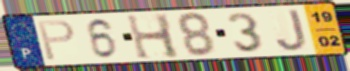3: (226, 11, 266, 53)
6: (85, 17, 120, 59)
8: (177, 11, 219, 58)
H: (124, 13, 183, 61)
J: (274, 7, 309, 53)
P: (35, 19, 77, 62)
